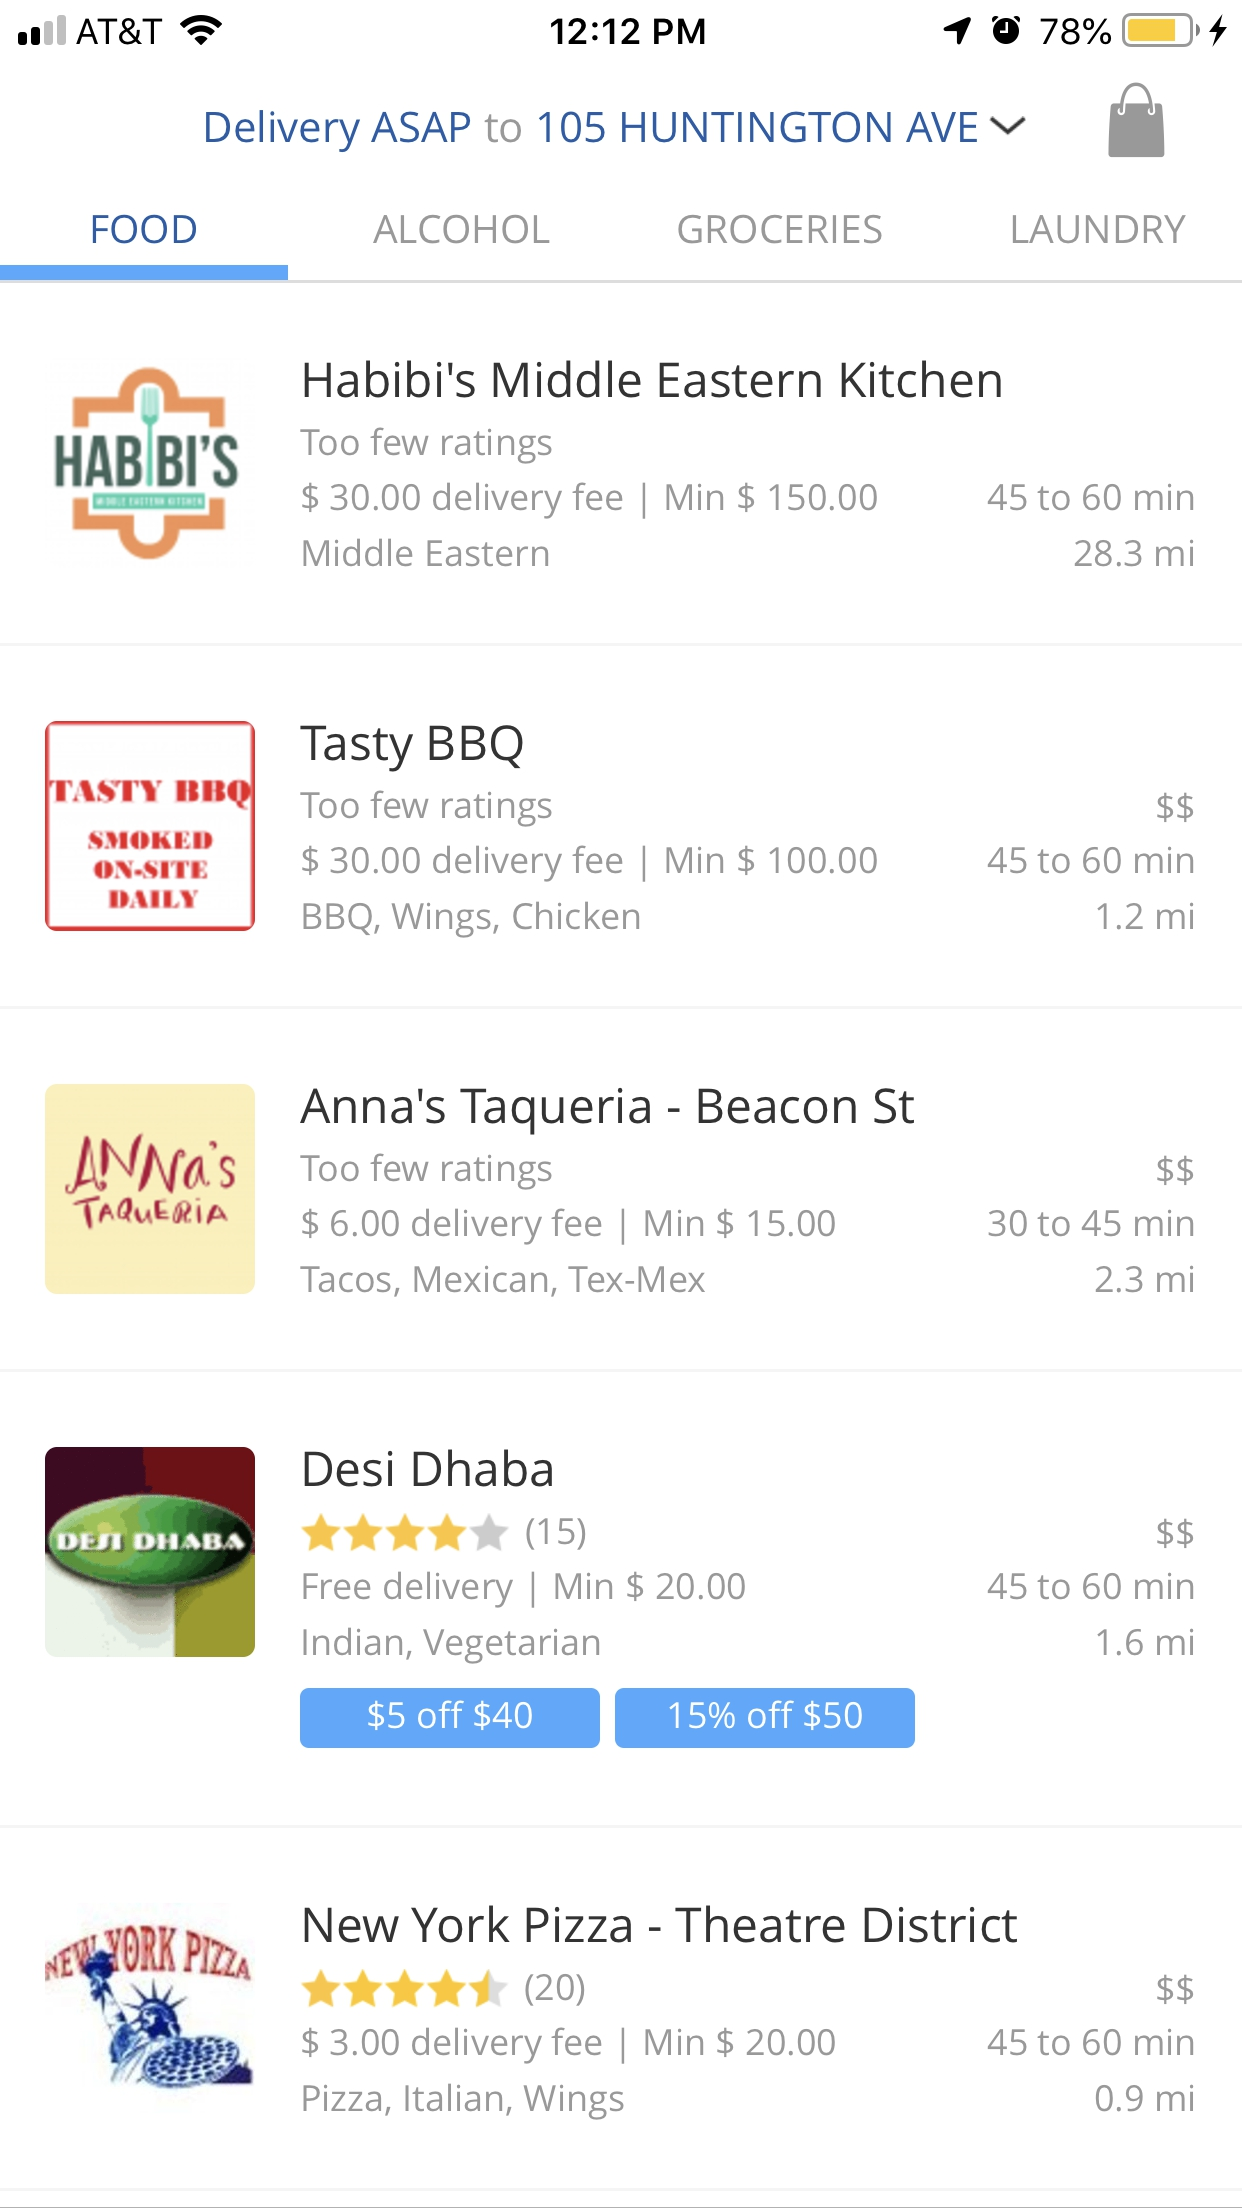Icon: (302, 1968, 511, 2008), (300, 1512, 510, 1551), (1107, 82, 1166, 159), (989, 115, 1027, 136)
Image: (45, 720, 256, 933), (45, 1083, 256, 1295), (45, 1447, 256, 1658), (55, 367, 241, 561), (45, 1921, 255, 2090)
Text: (300, 790, 878, 940), (300, 428, 878, 569), (300, 1153, 836, 1298), (300, 2028, 836, 2122), (302, 1571, 746, 1665), (206, 111, 978, 155), (300, 1087, 914, 1137), (303, 359, 1002, 400), (303, 1905, 1018, 1944), (300, 725, 525, 773), (305, 1450, 554, 1488), (678, 214, 883, 246), (987, 482, 1195, 513), (987, 2028, 1193, 2056), (987, 1573, 1193, 1601), (989, 1209, 1193, 1237), (372, 214, 550, 246), (987, 848, 1193, 875), (1011, 214, 1186, 246), (1074, 540, 1193, 569), (93, 214, 199, 246), (1095, 2084, 1193, 2112), (1096, 1629, 1193, 1658), (1096, 902, 1193, 931), (1095, 1266, 1193, 1294), (526, 1516, 585, 1551), (525, 1973, 585, 2006), (1156, 792, 1193, 823), (1156, 1974, 1193, 2005), (1156, 1518, 1193, 1548), (1156, 1156, 1193, 1186)
TextButton: (616, 1686, 916, 1749), (300, 1688, 601, 1749)
UpperTaskBar: (2, 2, 1242, 49)
